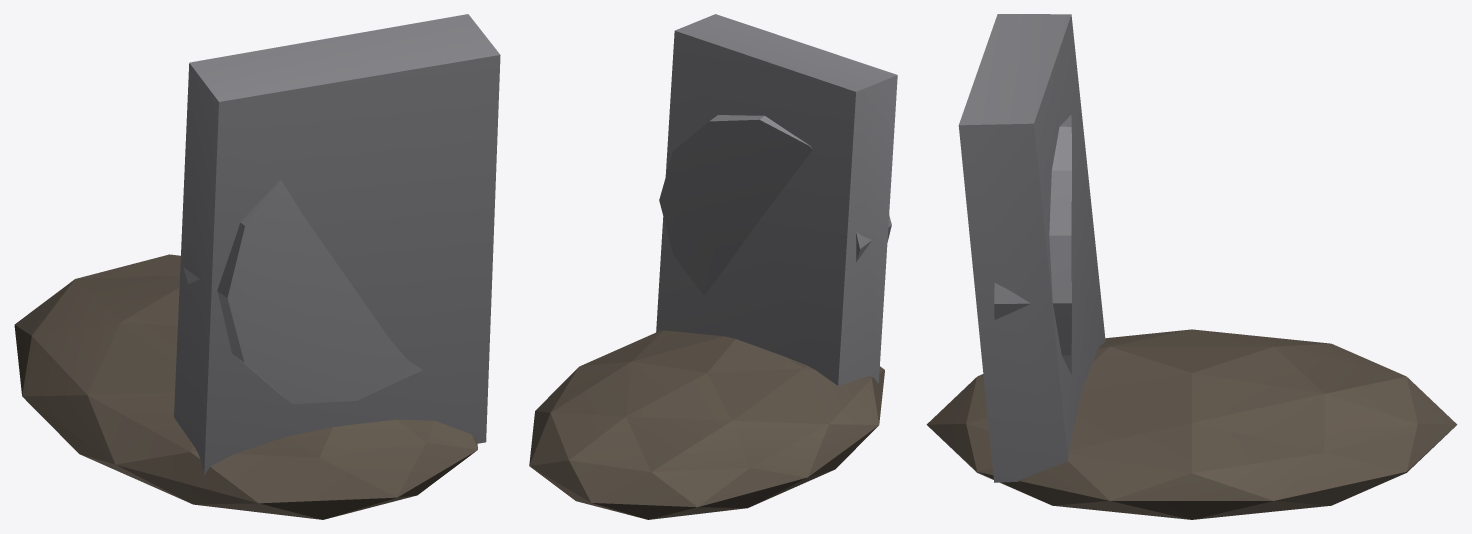
The model's file is gravestone.glb.
3 views of the same model, side by side, from view 1: azimuth 30°, elevation 25°; view 2: azimuth 150°, elevation 25°; view 3: azimuth 270°, elevation 25° (orthographic). The views are drawn at different scales.
Parts seen in each view (by area): view 1: gravestone; view 2: gravestone; view 3: gravestone.
Boxes of the visible parts, x1,y1,x2,y2 form: gravestone: (14,14,500,519); gravestone: (529,14,897,519); gravestone: (926,14,1457,519).
Bounding box in the file's own units: 0.5706 × 0.7144 × 0.84.
